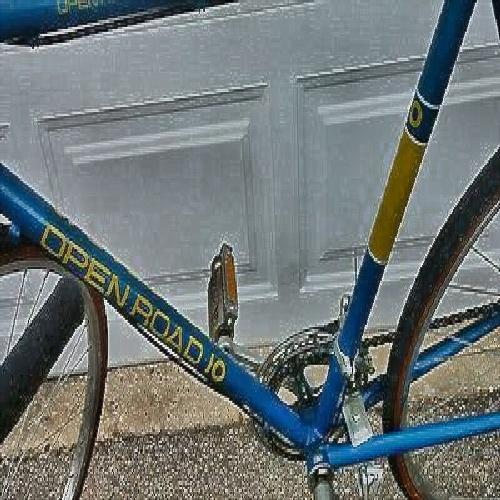bicycle: (19, 82, 484, 470)
